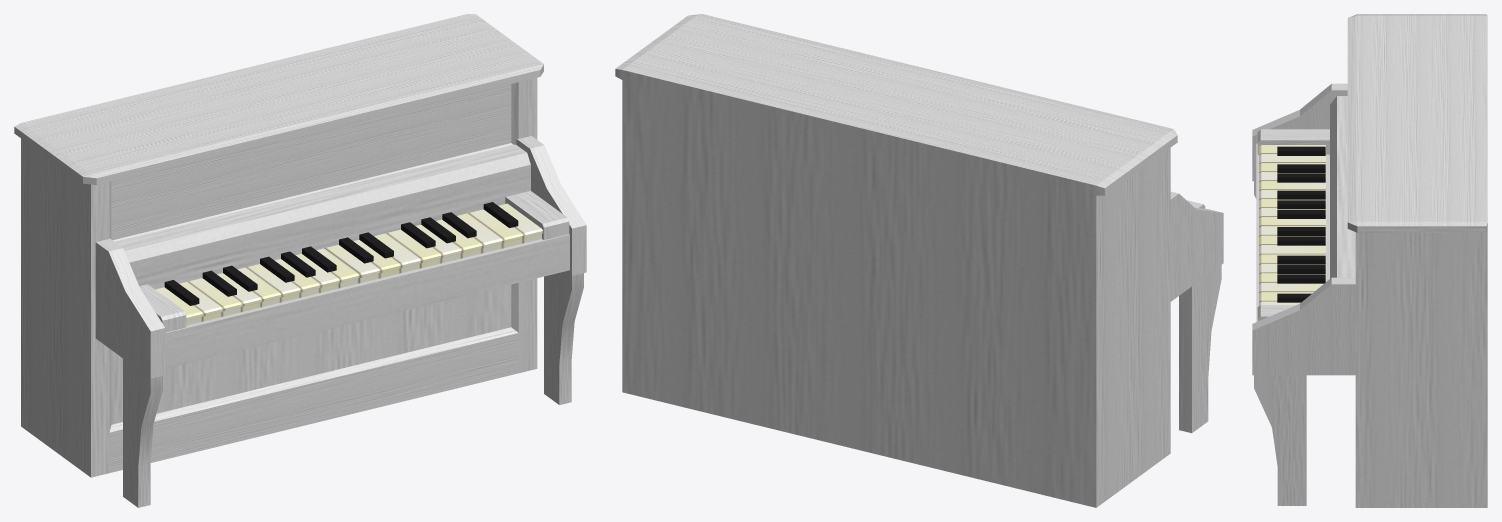
Rendered from Piano_E.FBX.
3 views of the same model, side by side, from view 1: azimuth 30°, elevation 25°; view 2: azimuth 150°, elevation 25°; view 3: azimuth 270°, elevation 25° (orthographic). The views are drawn at different scales.
Parts seen in each view (by area): view 1: Piano; view 2: Piano; view 3: Piano.
Part boxes in pixels (box(x1,y1,x2,y2)): Piano: box(14, 14, 586, 507); Piano: box(615, 14, 1223, 507); Piano: box(1252, 14, 1487, 507).
Size of the model in its own units: 362 by 228 by 170.
